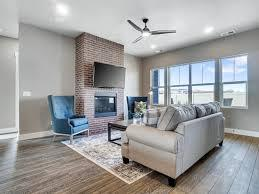TV: (91, 60, 127, 93)
chair: (45, 94, 90, 144), (126, 95, 151, 118)
fan: (124, 14, 177, 43)
light: (50, 0, 74, 21), (200, 25, 220, 38), (147, 87, 156, 105), (147, 43, 157, 51), (154, 50, 163, 56)
sofa: (118, 99, 227, 187)
table: (107, 118, 156, 145)
